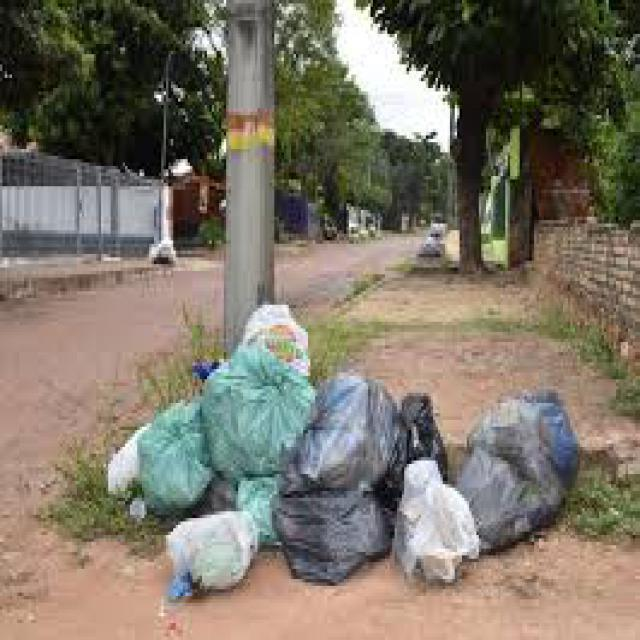high trash: (108, 305, 579, 598)
